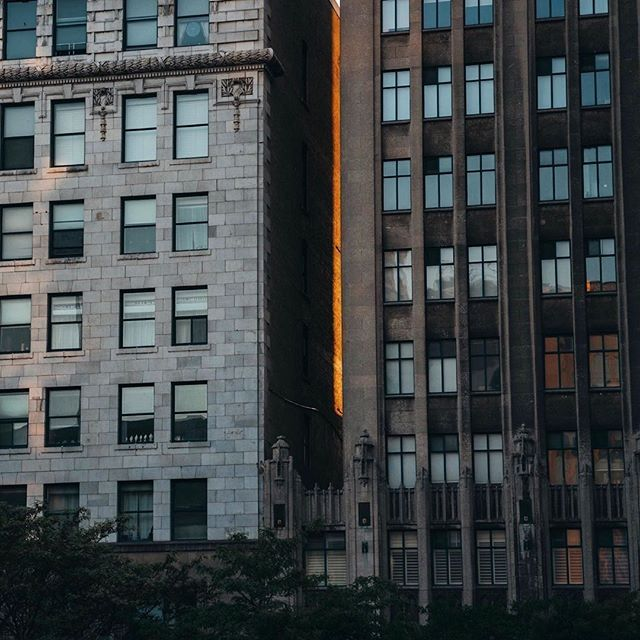building: (329, 1, 640, 598), (1, 1, 313, 566)
vegetation: (1, 528, 640, 640)
